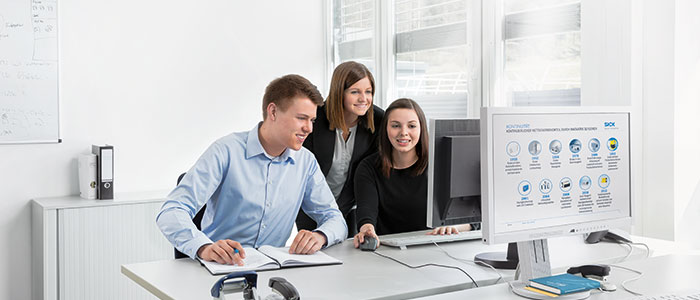Person: (155, 74, 348, 266), (353, 98, 461, 248), (295, 61, 384, 231)
